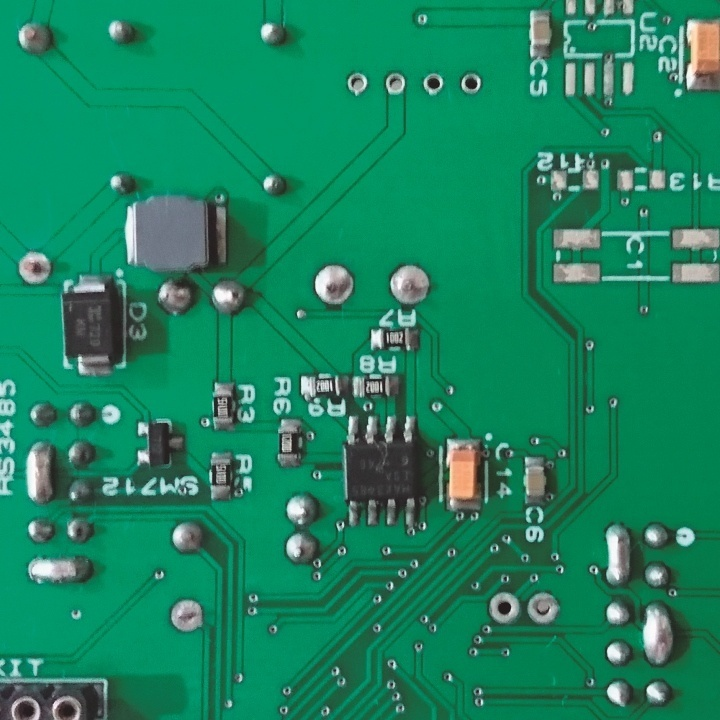F: (310, 260, 356, 306), (387, 262, 432, 308), (165, 598, 207, 636), (14, 250, 55, 288), (522, 591, 562, 628), (487, 592, 521, 625), (345, 69, 370, 96), (383, 69, 407, 97), (421, 70, 444, 98), (457, 70, 481, 96)
P: (640, 599, 675, 673), (24, 554, 97, 589), (21, 437, 56, 506), (601, 522, 633, 586)
